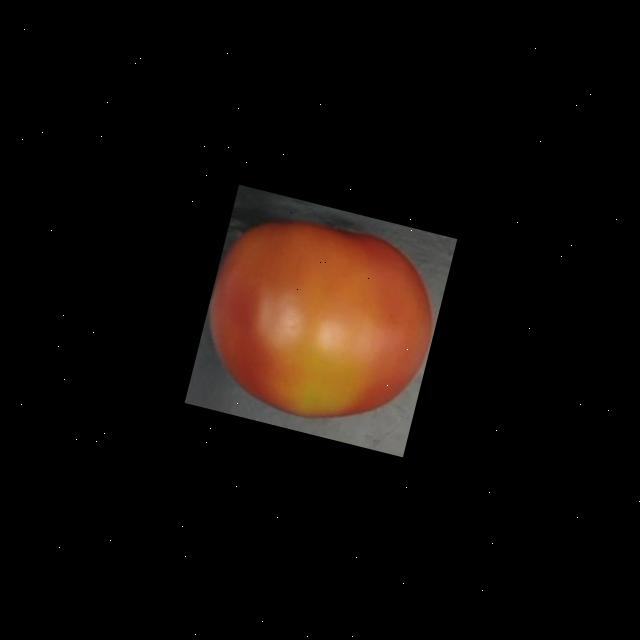tomato: (186, 196, 454, 444)
